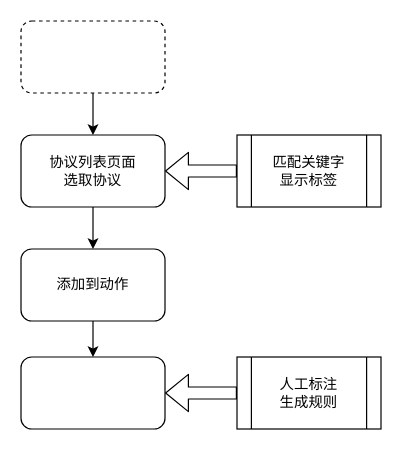
This 402x450 diagram has some shape labels left out. Here are the shapes that lost their labels. From the top down, the centre of each, then its label:
At (x=92, y=56): "新建动作".
At (x=92, y=392): "编辑所选协议 能够获取的元素".
